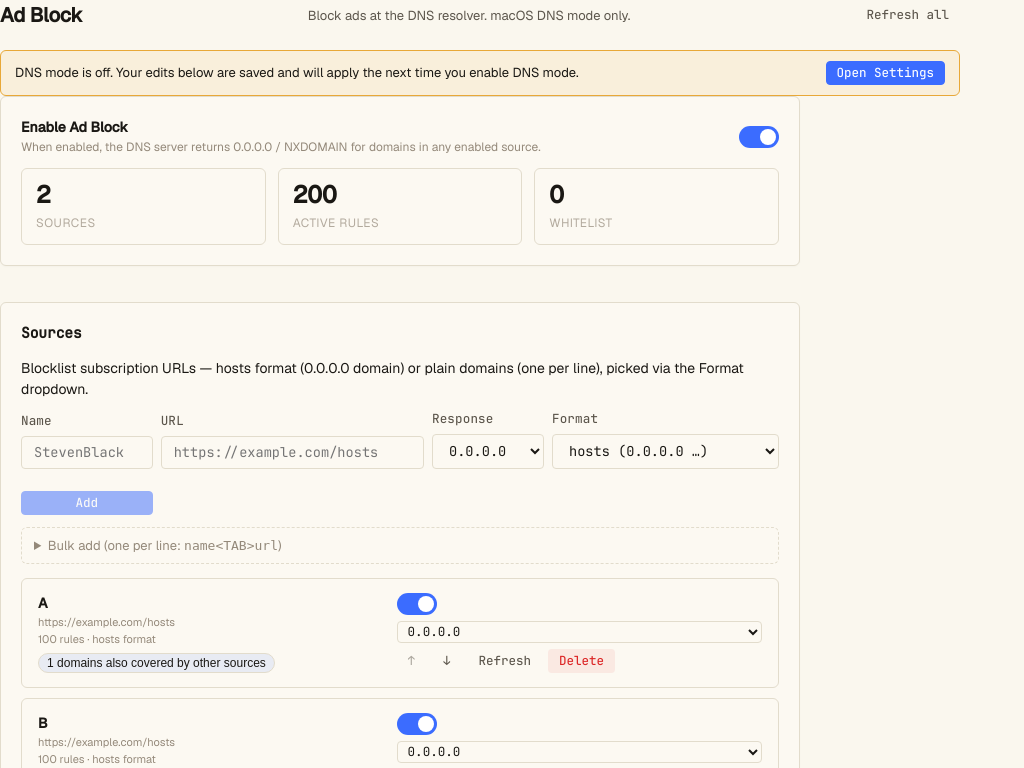
Test case: AdBlock › source overlap (issue #215) › clicking the chip opens a drawer with per-domain details
Click the button with aria-label "Show 1 overlapping domains for A": coordinates (156, 663) [38,653,275,673]
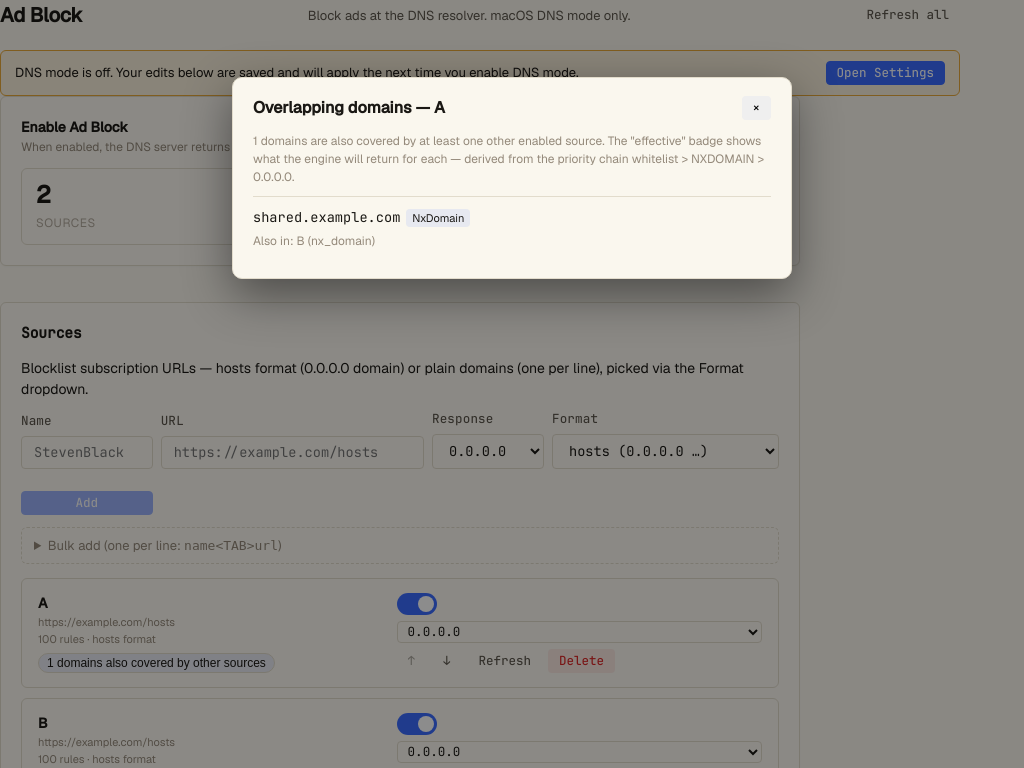
Expected: the heading "Overlapping domains — A" is shown, [253,96,445,120]
Expected: the text "shared.example.com" is shown, [253,210,400,225]
Expected: the text "NxDomain" is shown, [406,209,470,227]
